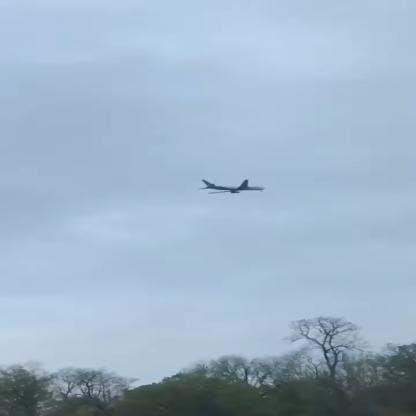plane: (185, 171, 277, 202)
